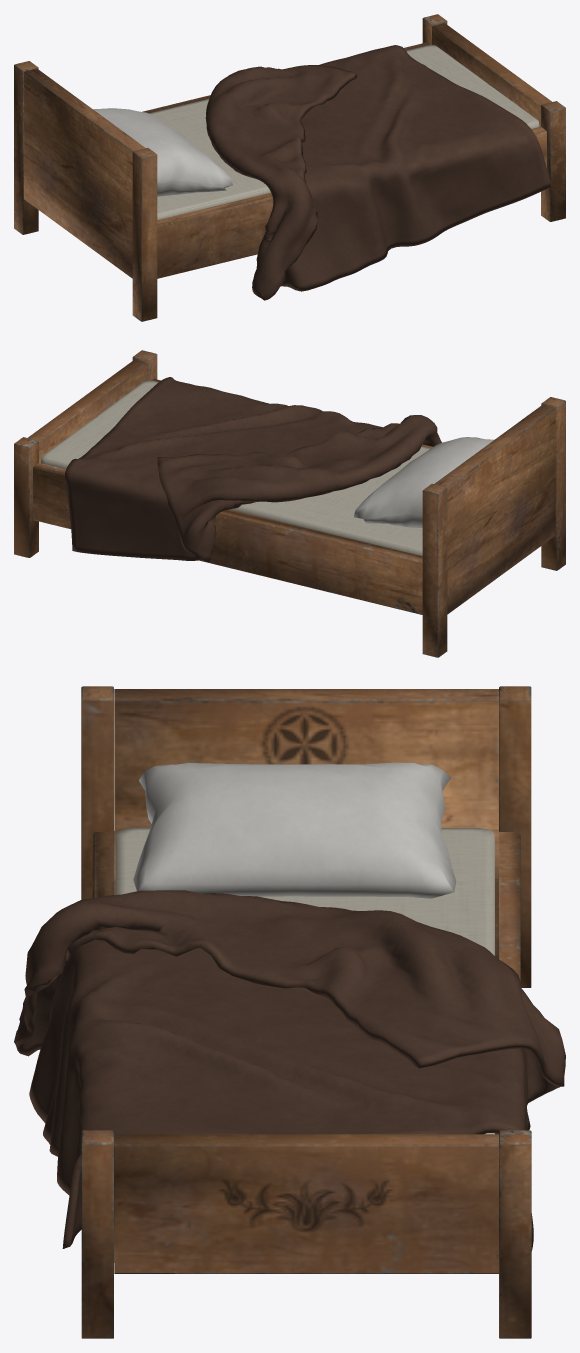
The model's file is wooden_bed.glb.
3 views of the same model, one above another, from view 1: azimuth 30°, elevation 25°; view 2: azimuth 150°, elevation 25°; view 3: azimuth 270°, elevation 25° (orthographic). The views are drawn at different scales.
Visible parts, largest first — view 1: duvet_lowpoly, bed frame_lowpoly.001; view 2: bed frame_lowpoly.001, duvet_lowpoly; view 3: duvet_lowpoly, bed frame_lowpoly.001.
Part boxes in pixels (bbox=[...]): duvet_lowpoly: bbox=[93, 45, 550, 300]; bed frame_lowpoly.001: bbox=[14, 14, 565, 321]; bed frame_lowpoly.001: bbox=[14, 350, 565, 657]; duvet_lowpoly: bbox=[64, 377, 494, 562]; duvet_lowpoly: bbox=[14, 762, 565, 1250]; bed frame_lowpoly.001: bbox=[81, 686, 531, 1338].
Bounding box in the file's own units: 1.98 × 0.7311 × 1.27.
2 materials, 2 textured.
